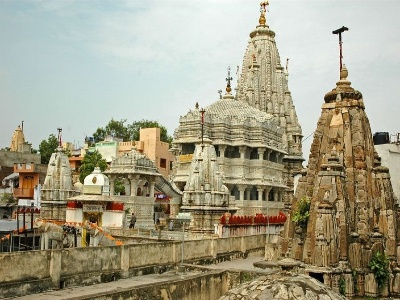amalaka: (320, 73, 368, 107), (237, 19, 289, 44)
gopuram: (308, 100, 378, 218), (236, 36, 307, 135), (40, 148, 82, 204)
